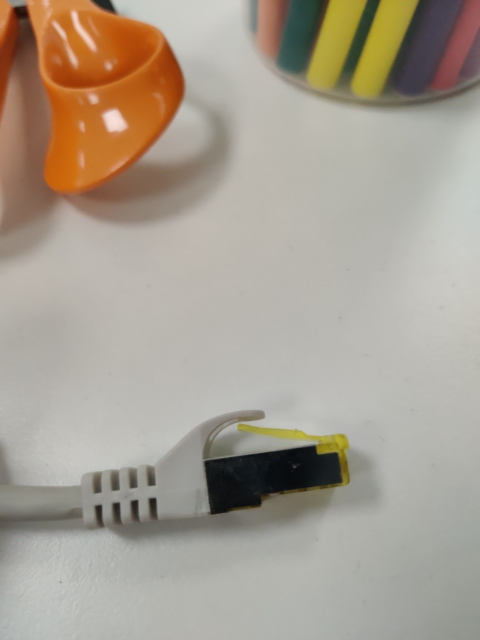Ethernet: (184, 409, 350, 514)
